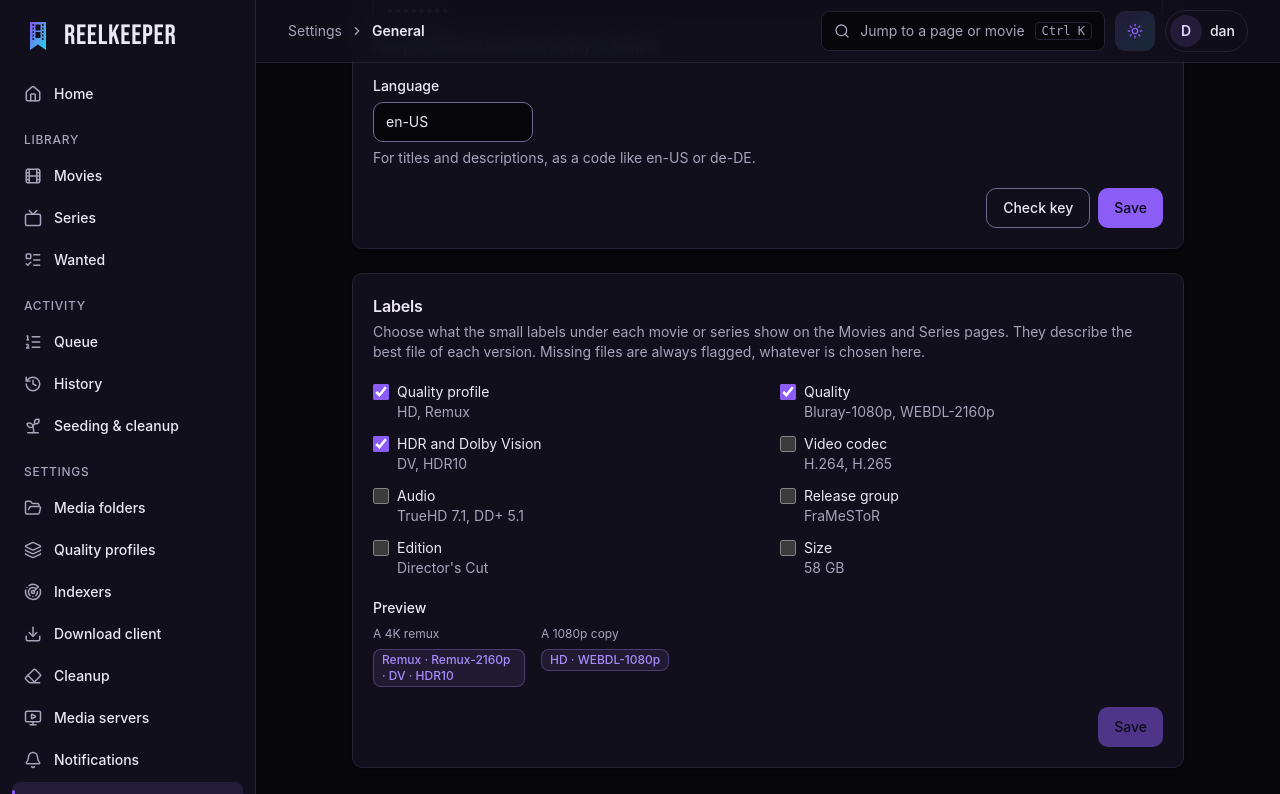
Scenario: labels settings › previews the choice live and saves it in display order
(page scrolled)
Expected: the text "Remux · Remux-2160p · DV · HDR10" is shown, left=373, top=649, right=525, bottom=687
Click the checkbox labelled "Size 58 GB".
click(788, 548)  # box left=780, top=540, right=796, bottom=556
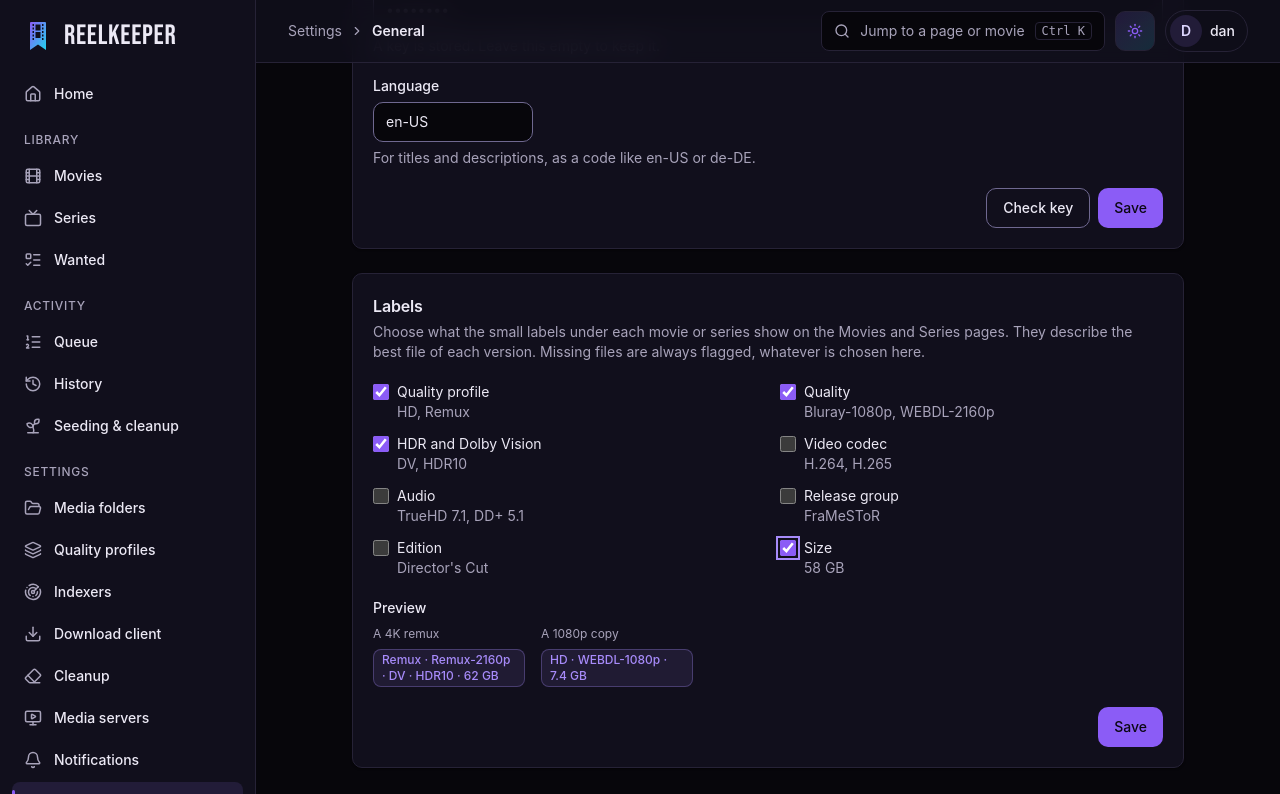
Click the checkbox labelled "Audio TrueHD 7.1, DD+ 5.1".
click(381, 496)  # box left=373, top=488, right=389, bottom=504
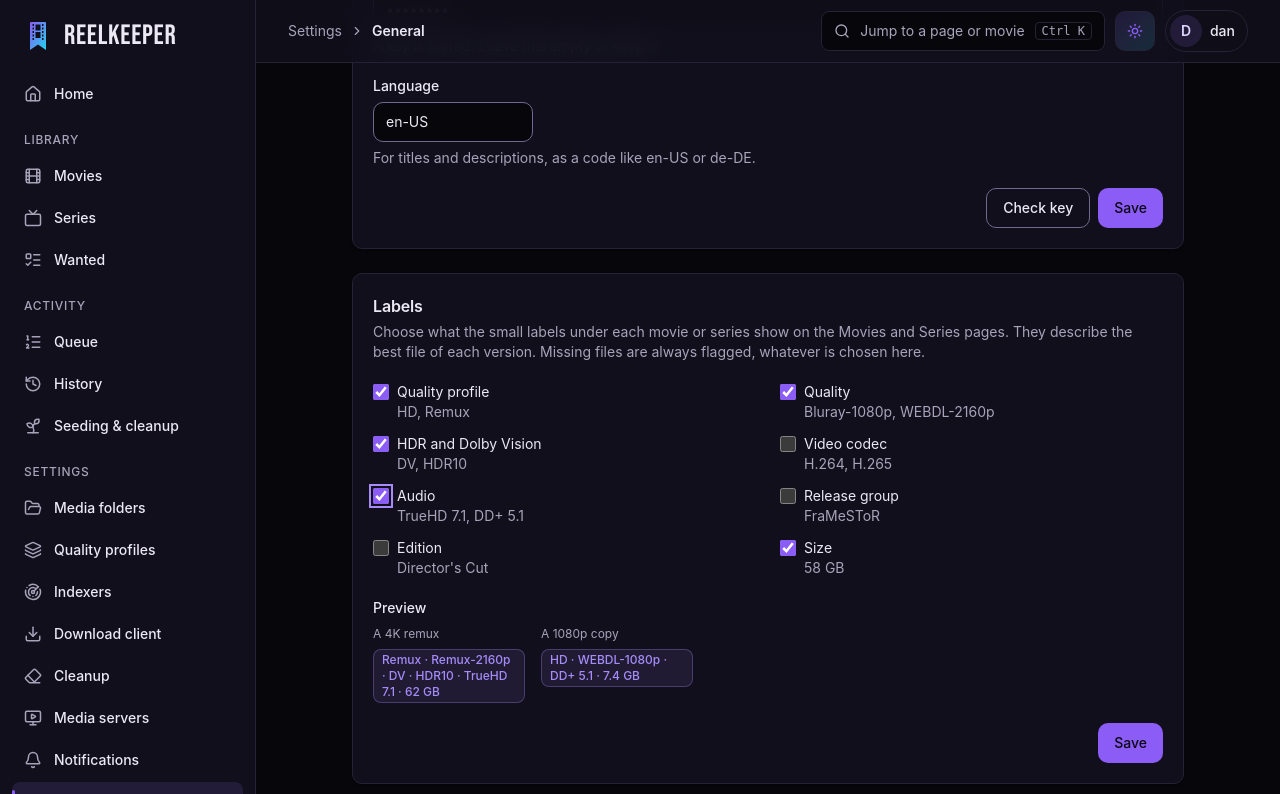
Click the checkbox labelled "Quality profile HD, Remux".
click(381, 392)  # box left=373, top=384, right=389, bottom=400
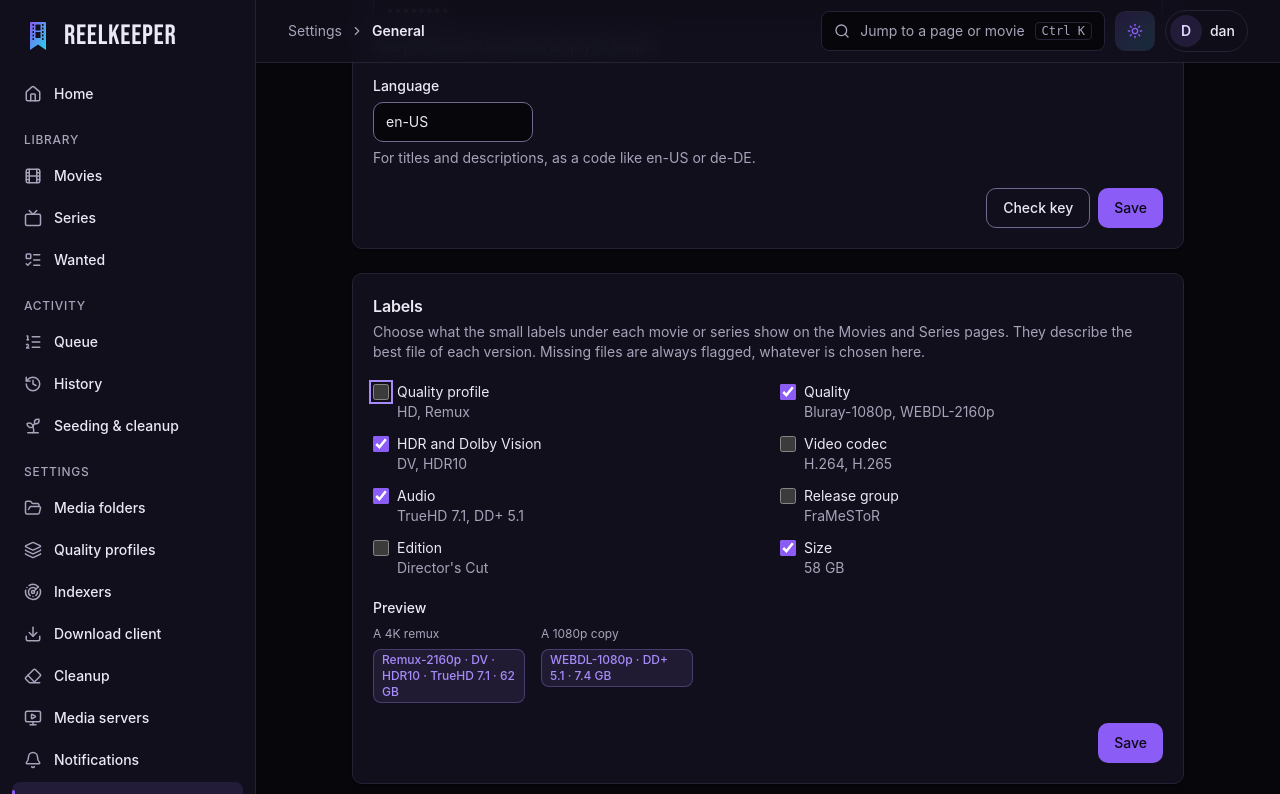
Expected: the text "Remux-2160p · DV · HDR10 · TrueHD 7.1 · 62 GB" is shown, left=373, top=649, right=525, bottom=703
Click the button "Save" below "58 GB".
click(1131, 743)  # box left=1098, top=723, right=1163, bottom=763
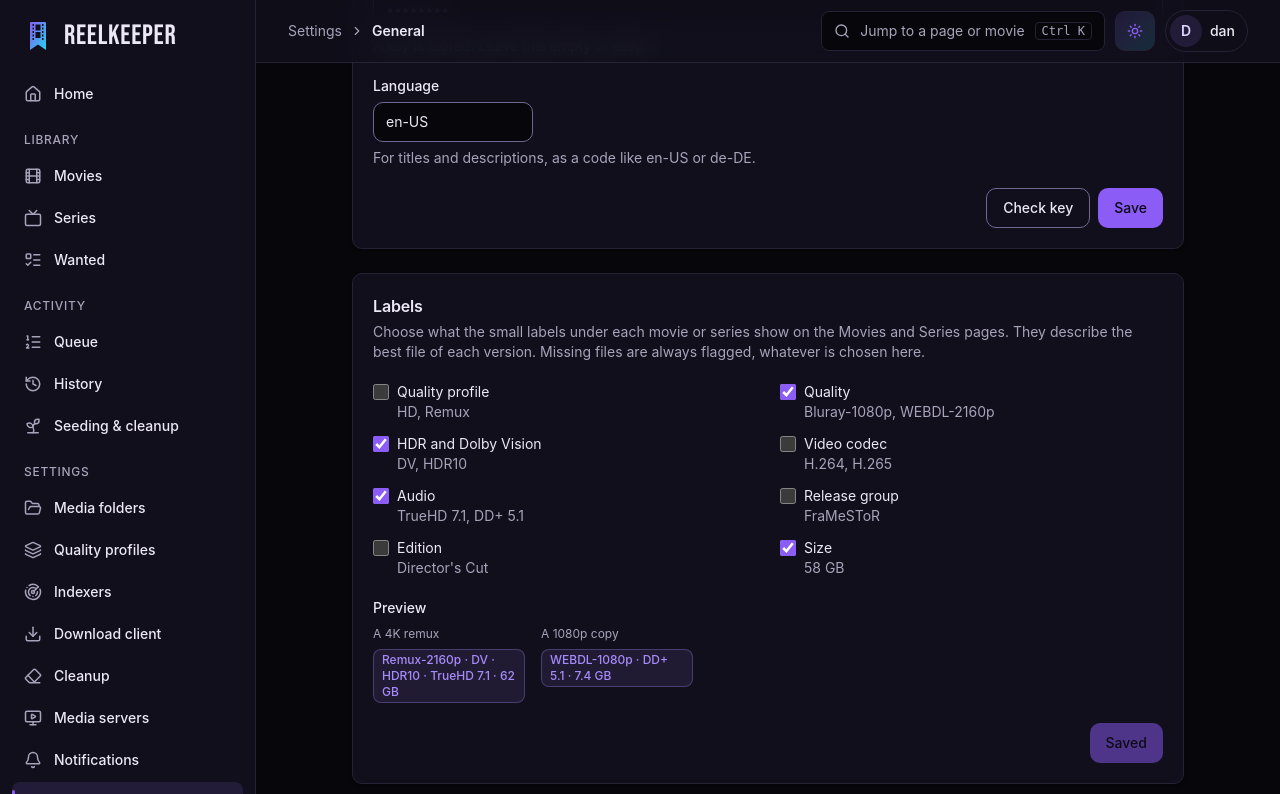
Expected: the button "Saved" is shown, left=1090, top=723, right=1163, bottom=763
